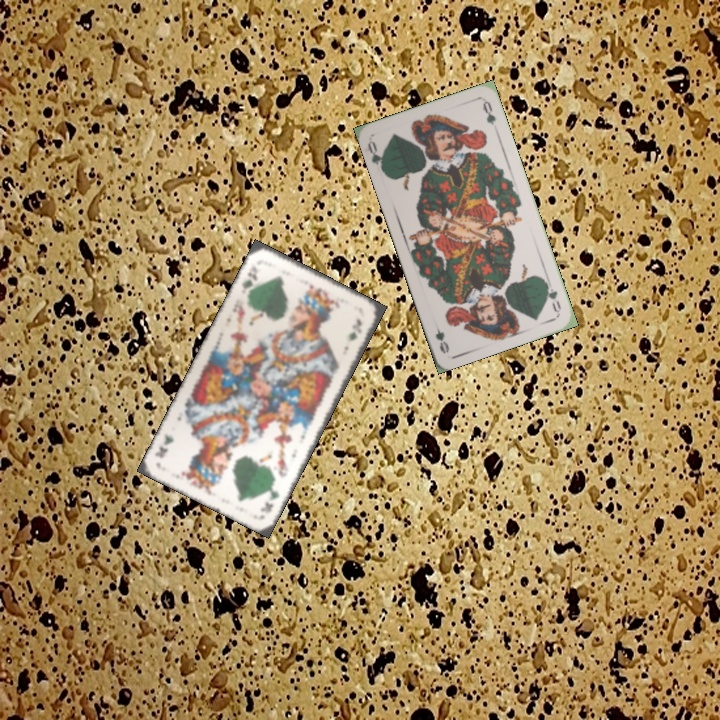GK: (256, 478, 281, 516), (237, 262, 261, 298)
GO: (363, 137, 388, 176), (540, 277, 564, 316)
